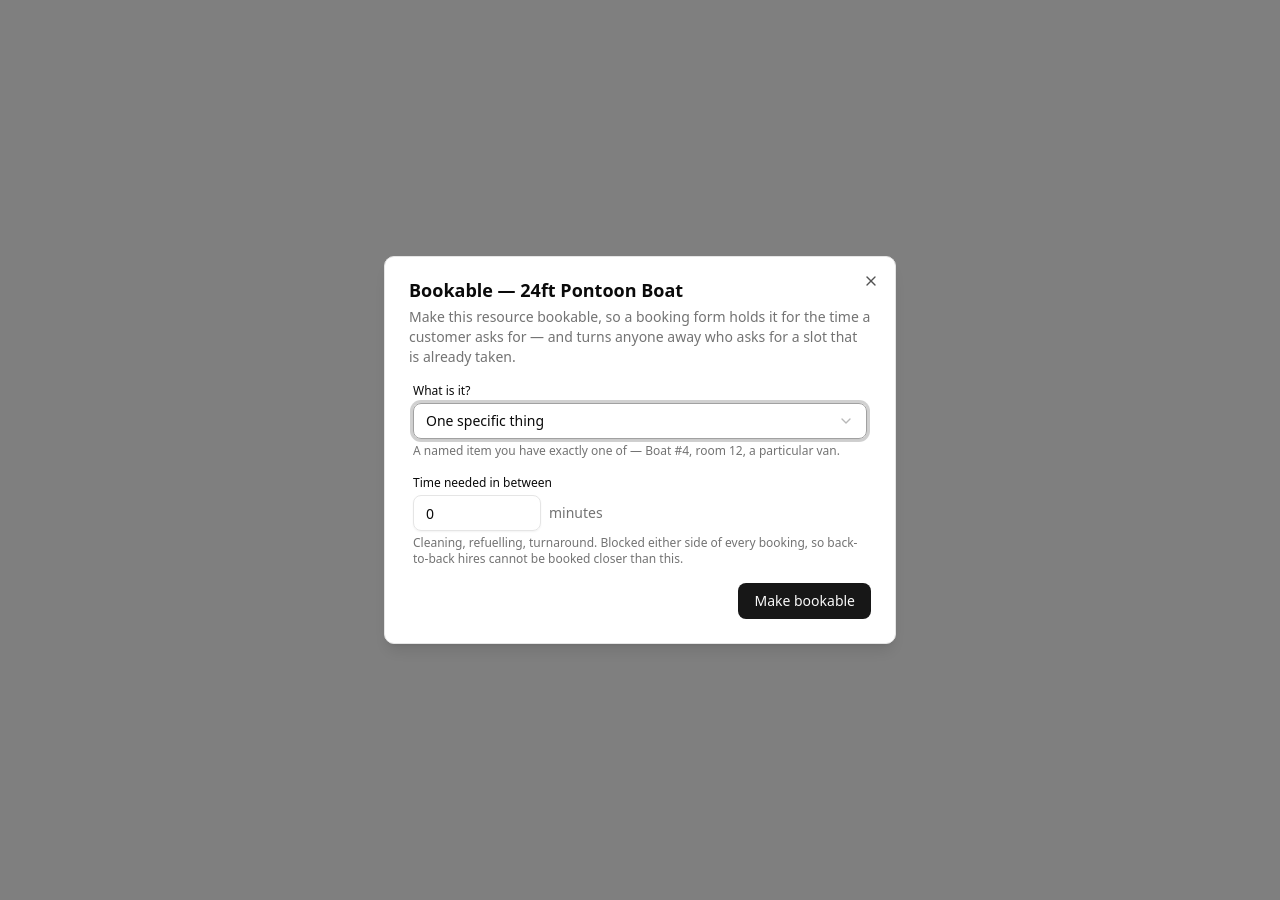
Scenario: BookableDialog — creating a pool › surfaces the server's own message when the write is refused
The width and height of the screenshot is (1280, 900).
Click the button "Make bookable" at point(805, 601), box [738,583,871,619]
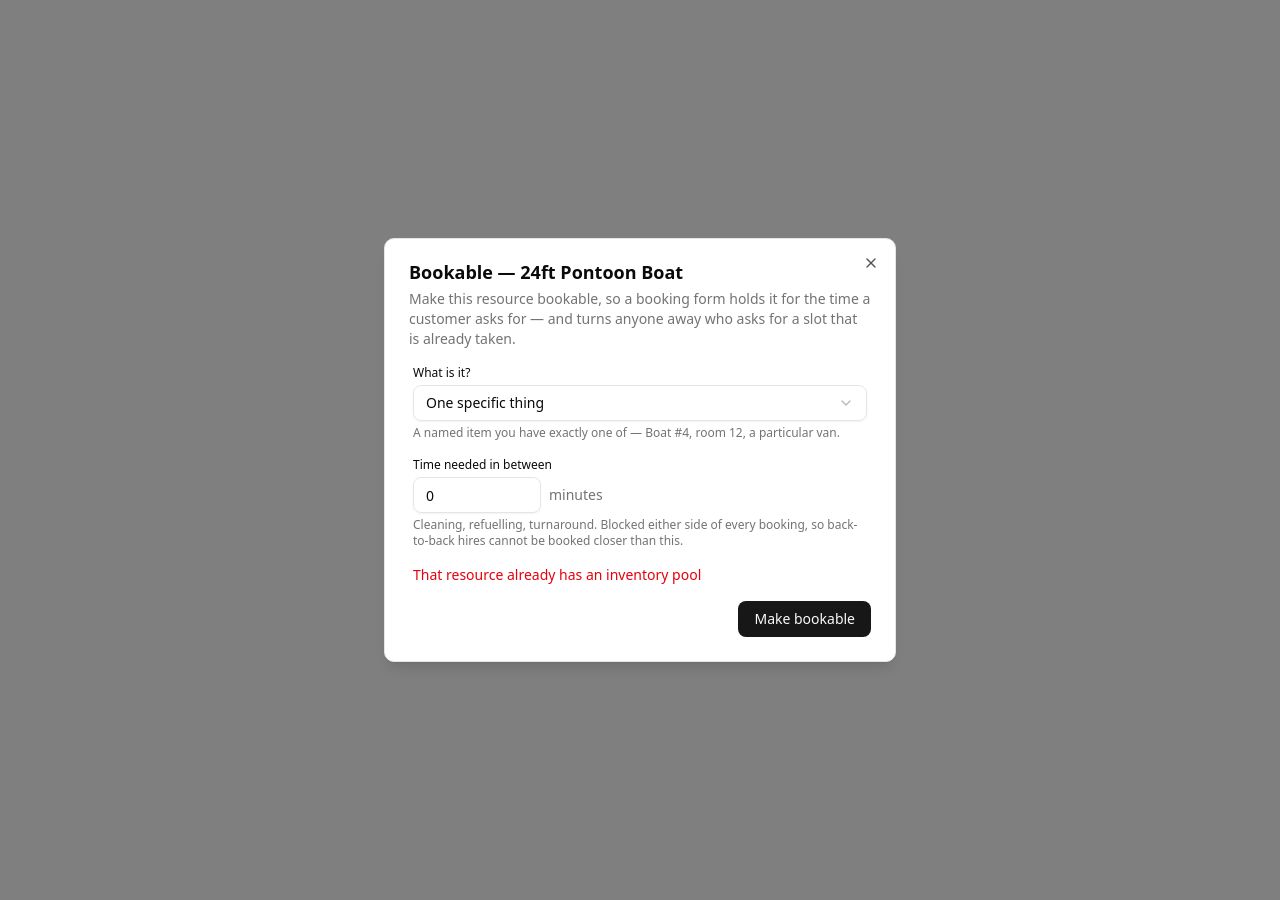
Expected: the message shows "already has an inventory pool", [413,565,701,584]
